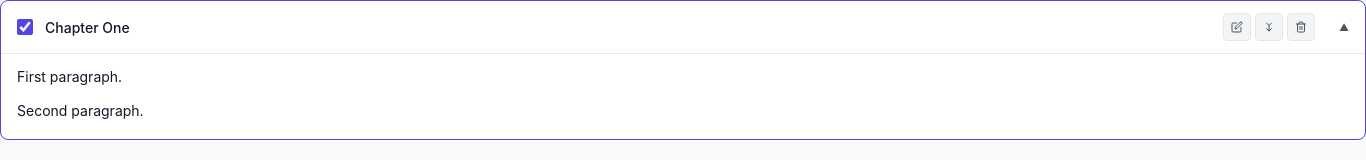
Scenario: clicking the title closes an open chapter
The image size is (1366, 160).
Click the text "Chapter One" at (87, 27), box [45, 18, 130, 36]
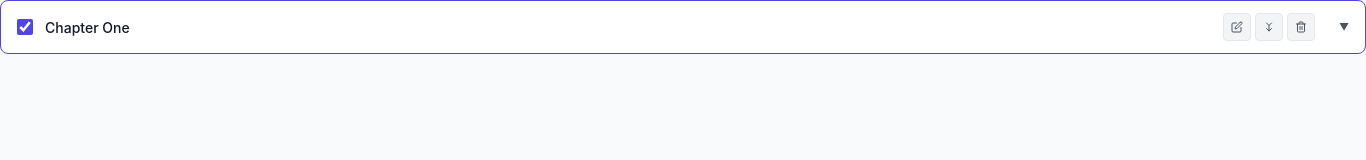
Expected: the text "First paragraph." is gone
